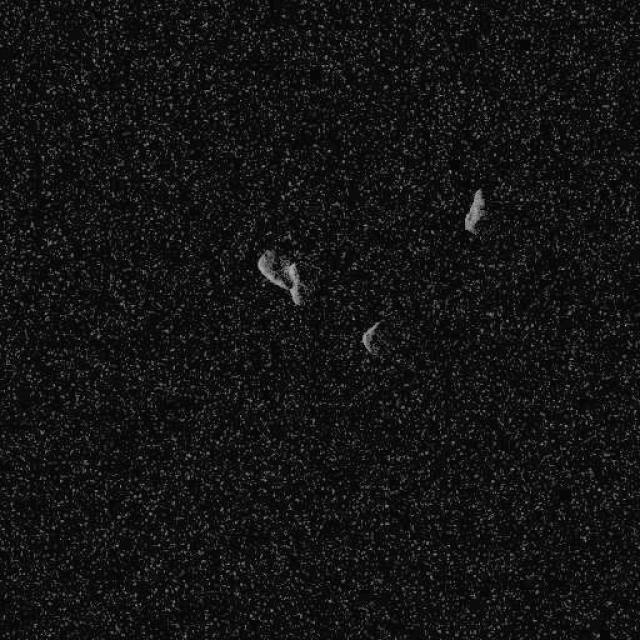D2: (255, 245, 305, 306), (462, 188, 487, 234), (360, 319, 384, 356)
